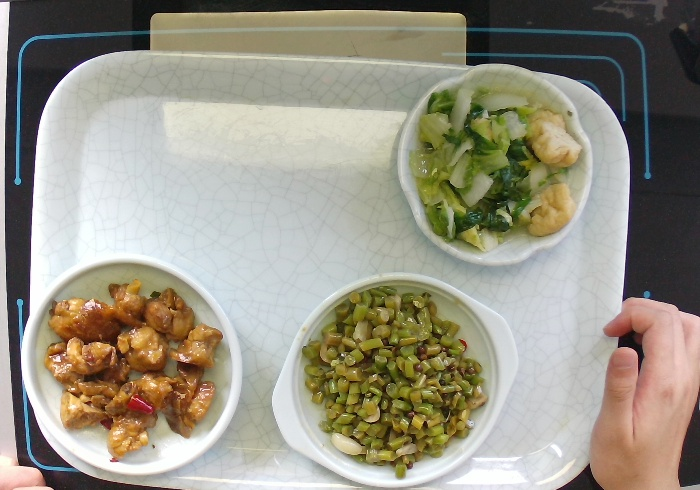JYsf-Ao_Yuan_Wan: (389, 57, 598, 271)
JYsf-Shuang_Er_Pan: (264, 267, 526, 488)
JYsf-Xiao_Yuan_Pan: (16, 249, 246, 482)
